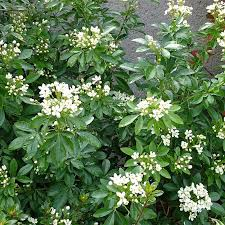flower: (110, 172, 122, 183)
